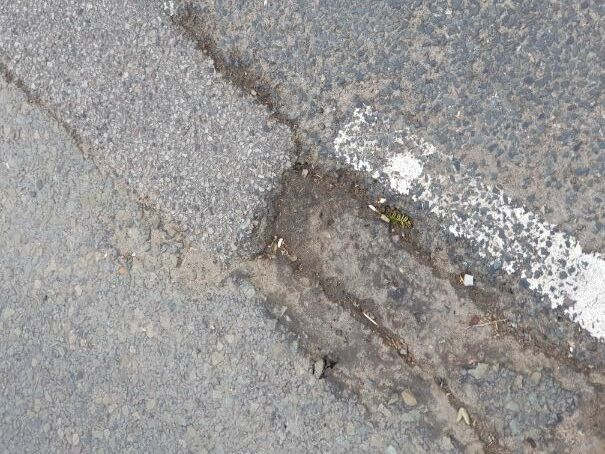pothole: (225, 135, 523, 380)
